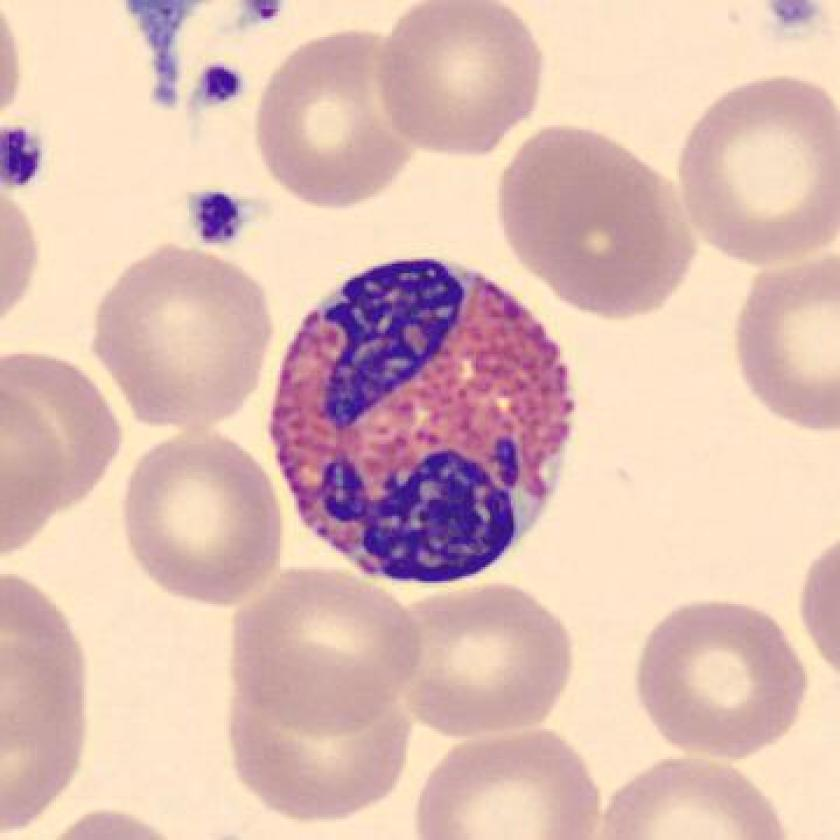eosinophil: (255, 244, 594, 593)
